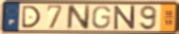7: (46, 4, 64, 30)
9: (138, 5, 159, 31)
D: (21, 5, 42, 29)
G: (91, 5, 112, 30)
N: (66, 4, 92, 31), (113, 4, 136, 31)
